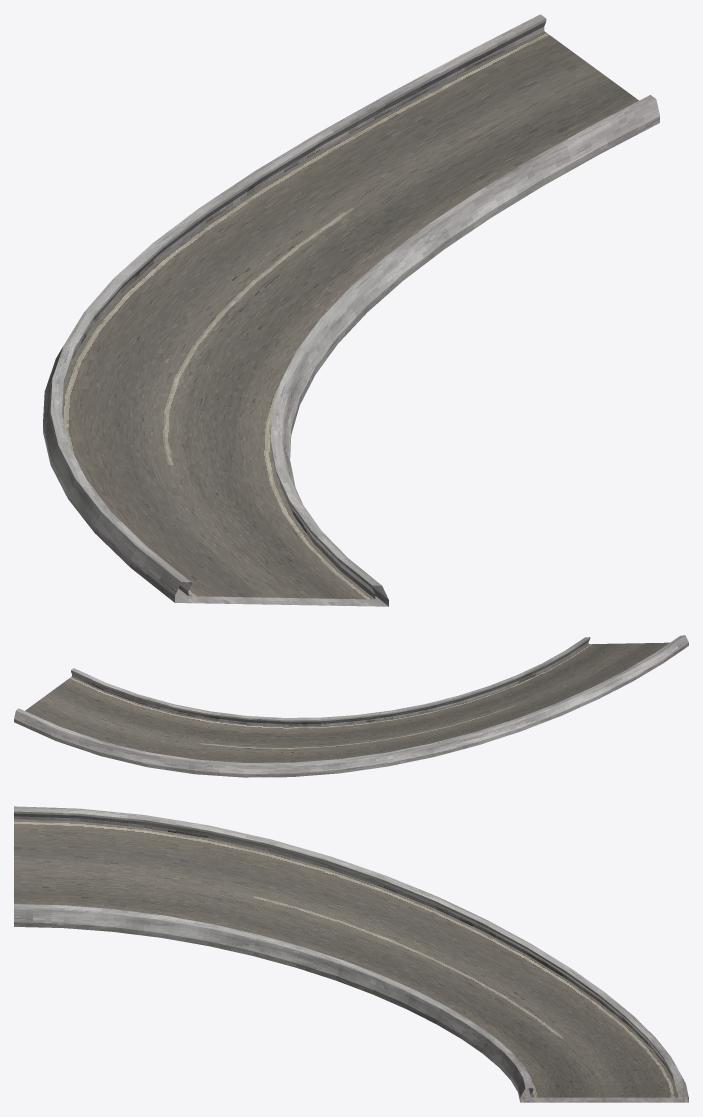
File: turn-right4x4.glb
3 views of the same model, one above another, from view 1: azimuth 30°, elevation 25°; view 2: azimuth 150°, elevation 25°; view 3: azimuth 270°, elevation 25° (orthographic). The views are drawn at different scales.
Parts seen in each view (by area): view 1: road-Turn-HalfBankedRight-BiSlopeUp-Up1-Right-Size4; view 2: road-Turn-HalfBankedRight-BiSlopeUp-Up1-Right-Size4; view 3: road-Turn-HalfBankedRight-BiSlopeUp-Up1-Right-Size4.
Boxes of the visible parts, x1=… form: road-Turn-HalfBankedRight-BiSlopeUp-Up1-Right-Size4: x1=43, y1=14, x2=659, y2=606; road-Turn-HalfBankedRight-BiSlopeUp-Up1-Right-Size4: x1=14, y1=635, x2=688, y2=777; road-Turn-HalfBankedRight-BiSlopeUp-Up1-Right-Size4: x1=14, y1=806, x2=688, y2=1102.
Size of the model in its own units: 4 by 0.3758 by 4.
Materials: 2 (2 with a texture image).
